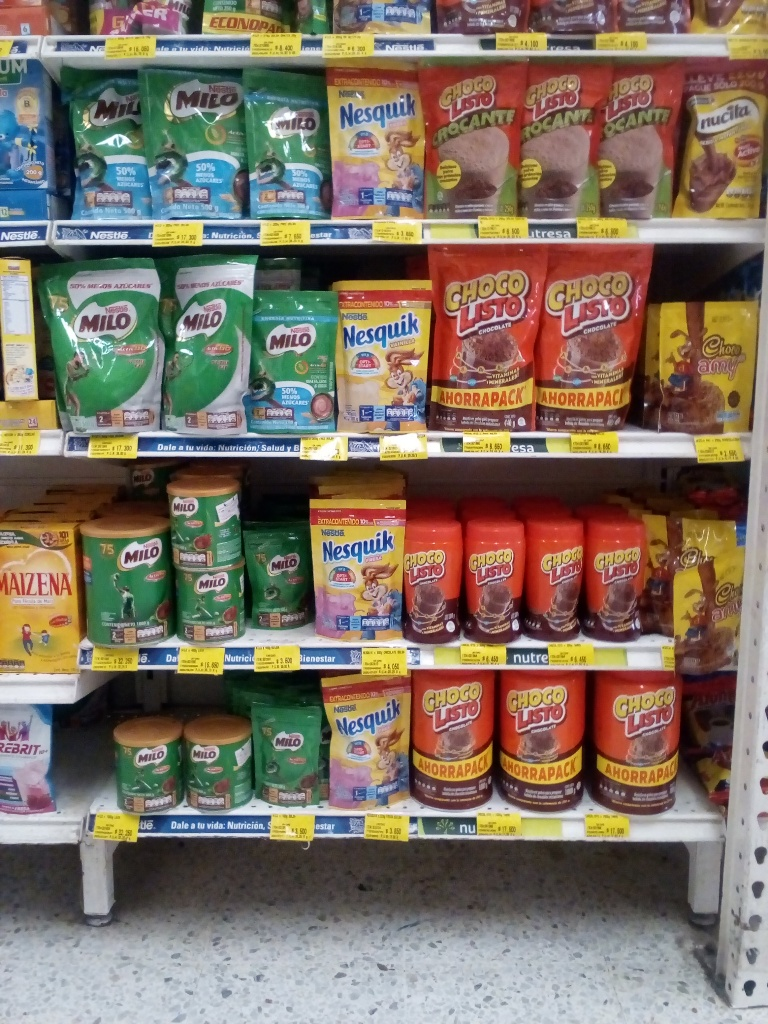COL0170102DYP25000: (420, 53, 519, 208)
COL0170103DYP44000: (427, 249, 532, 431)
COL0170103TRR00100: (411, 670, 492, 808)
COL0170103TRR30000: (402, 518, 461, 641)
COL0170203DYP10000: (241, 685, 324, 813)
COL0170203LAT40000: (166, 466, 247, 563)
COL0170205DYP20000: (251, 291, 337, 436)
COL0170205DYP50000: (48, 68, 153, 221)
